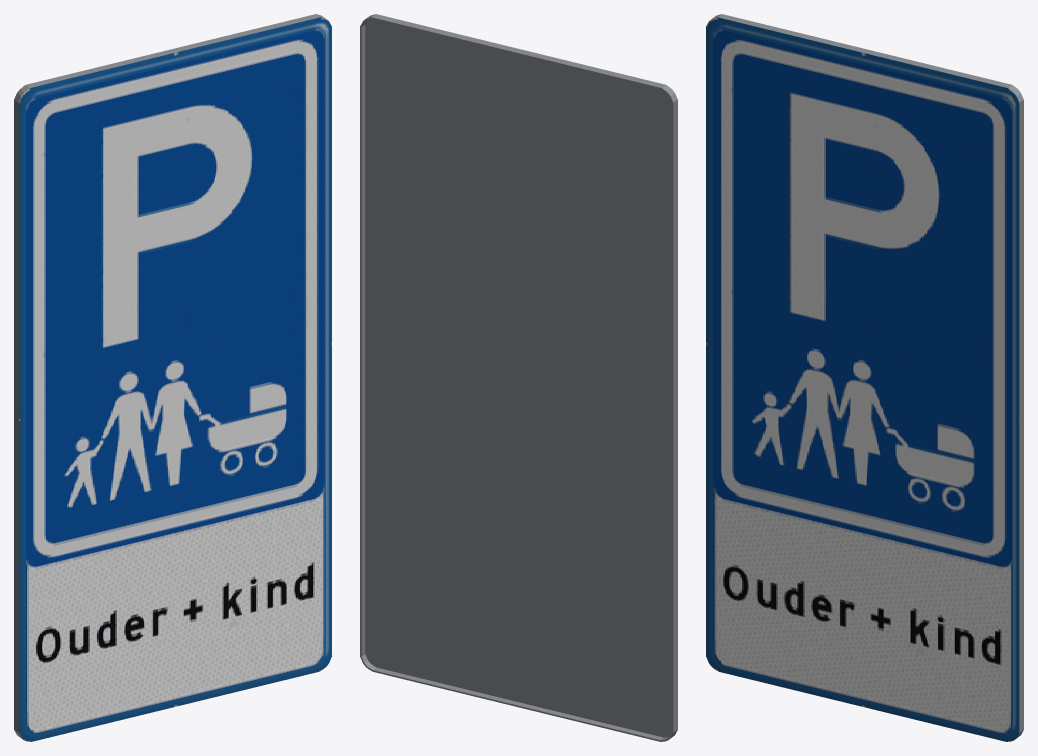
3 renders of one model, left to right at view 1: azimuth 30°, elevation 25°; view 2: azimuth 150°, elevation 25°; view 3: azimuth 330°, elevation 25°, orthographic.
Parts seen in each view (by area): view 1: cat_630410e5c97919f5; view 2: cat_630410e5c97919f5; view 3: cat_630410e5c97919f5.
Boxes of the visible parts, x1,y1,x2,y2 form: cat_630410e5c97919f5: [14, 14, 331, 741]; cat_630410e5c97919f5: [360, 14, 677, 741]; cat_630410e5c97919f5: [706, 14, 1023, 741].
Size of the model in its own units: 0.6 by 0.015 by 1.2.
2 materials, 1 textured.
